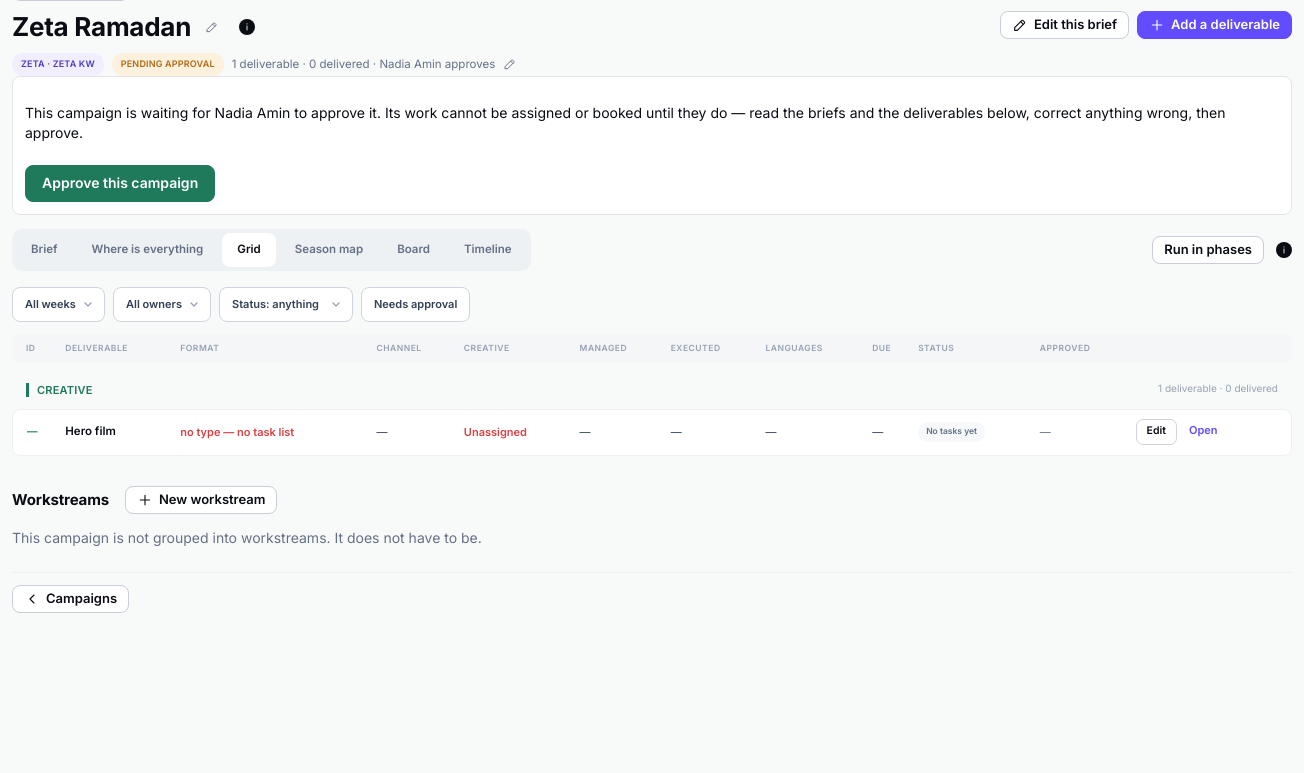
Test case: CampaignPage — a legacy department brief is kept, read only (ADR-0100 d.6) › shows the brief it already has, with no Edit
Click the tab with test id "campaign-tab-brief". click: click(44, 250)
box: [16,233,72,267]
(page scrolled)
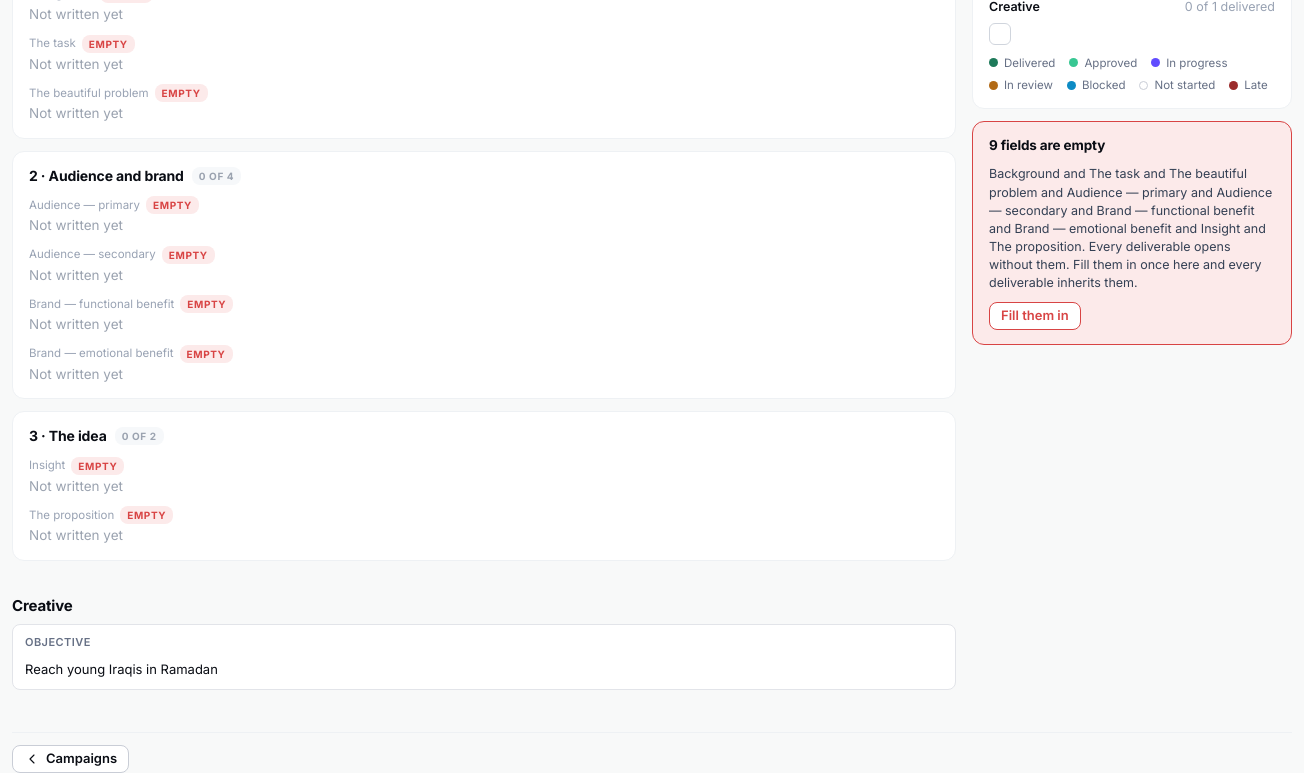
Expected: the element with test id "campaign-department-brief-dept-creative" shows "Reach young Iraqis in Ramadan", [25,661,218,677]
